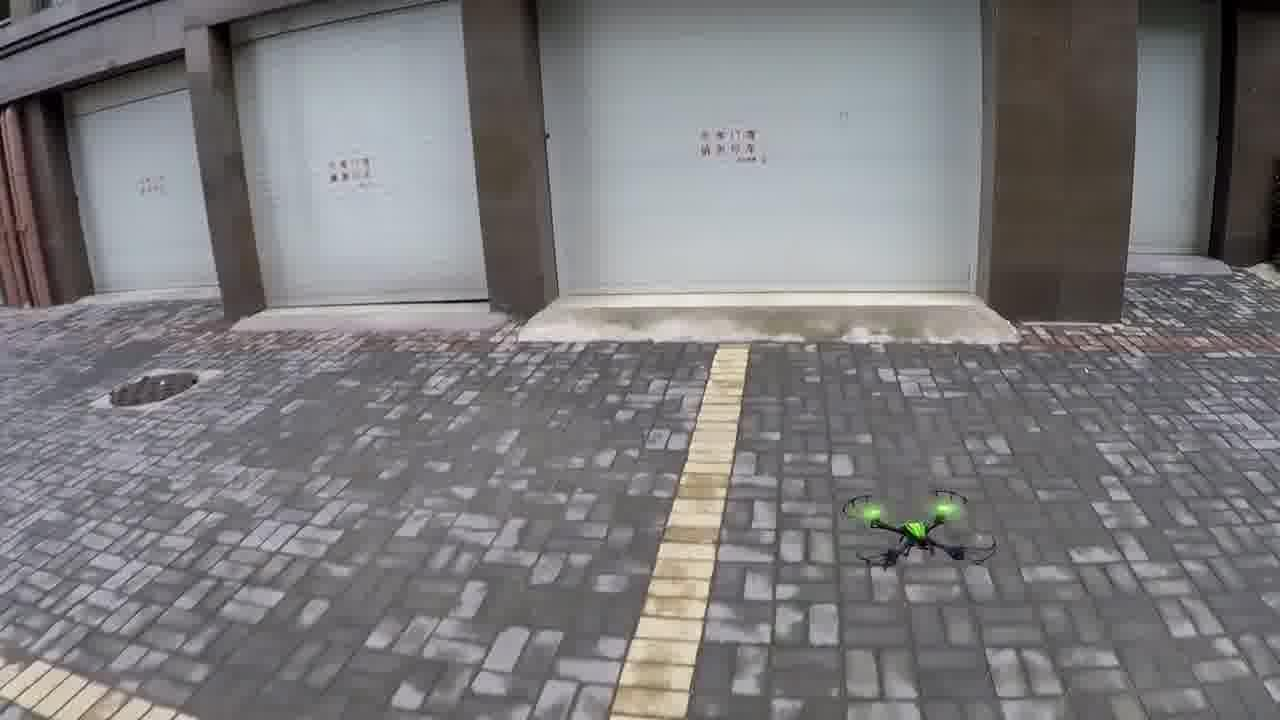drone: (832, 481, 1003, 576)
